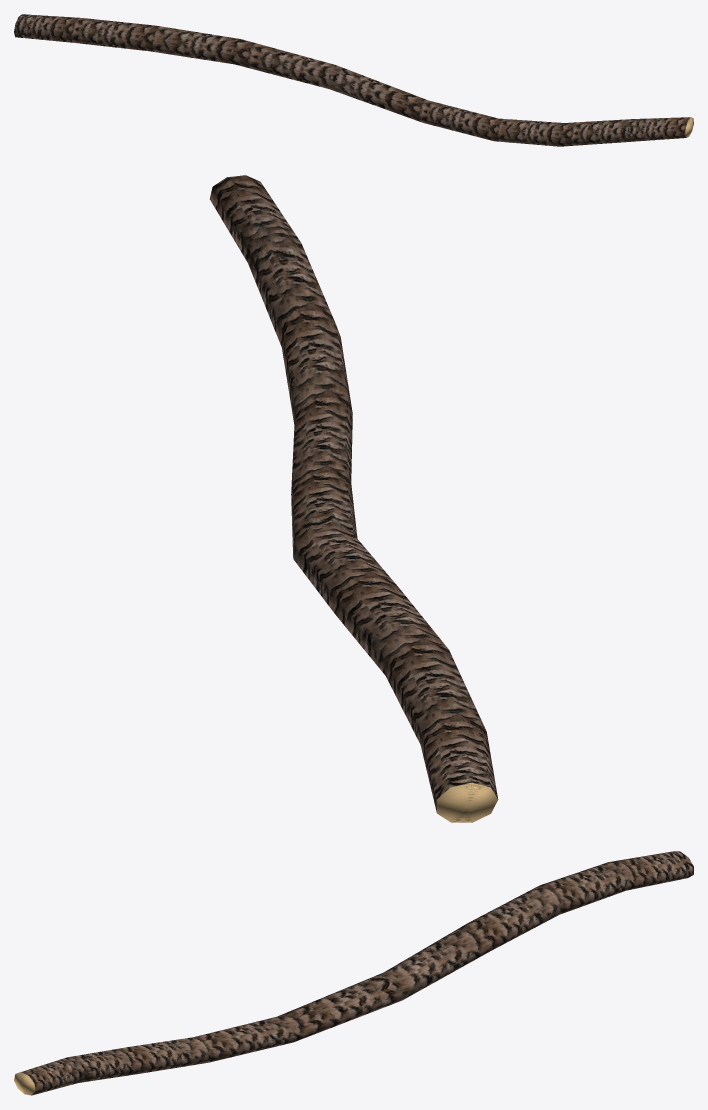
File: PalmTwist10Shape.dae
3 renders of one model, top to bottom at view 1: azimuth 30°, elevation 25°; view 2: azimuth 150°, elevation 25°; view 3: azimuth 270°, elevation 25°, orthographic. The views are drawn at different scales.
Visible parts, largest first — view 1: PalmTwist10; view 2: PalmTwist10; view 3: PalmTwist10.
Part boxes in pixels (x1,y1,x2,y2): PalmTwist10: [14, 14, 693, 146]; PalmTwist10: [210, 175, 498, 822]; PalmTwist10: [14, 851, 693, 1095].
Bounding box in the file's own units: 96.9 × 11.76 × 117.
